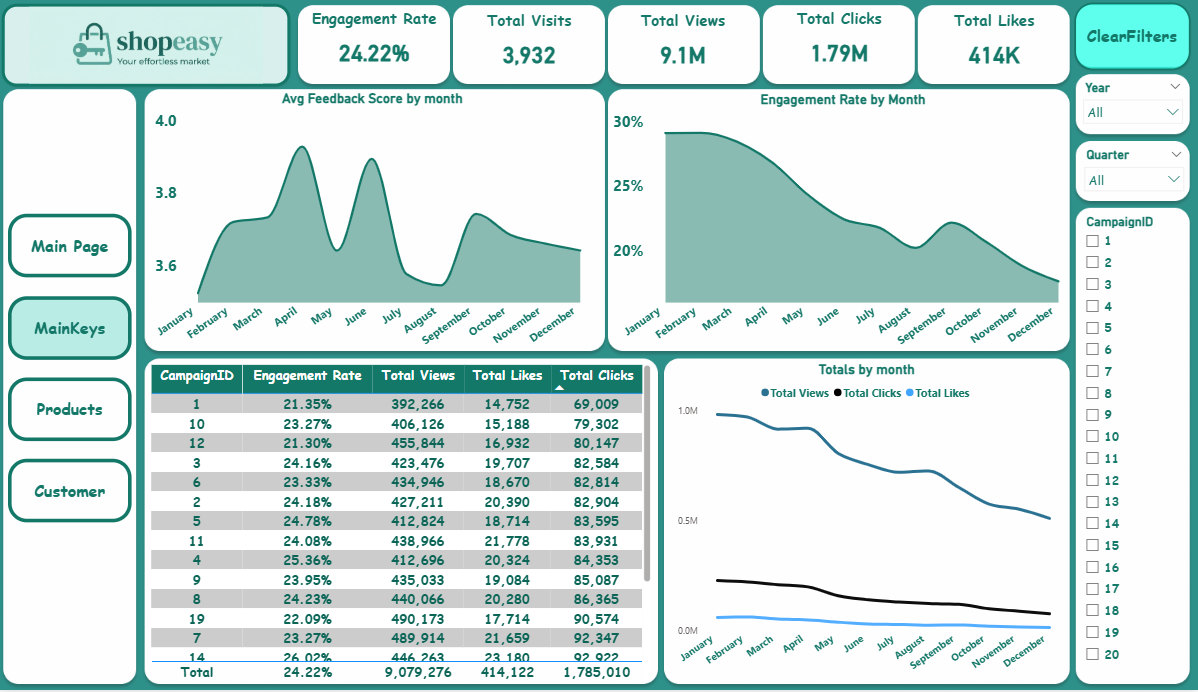

The page's visual inventory and layout, read from the dashboard file:
{"tool":"powerbi","page":{"name":"MainKeys","canvas":[1600,920],"ordinal":1},"visuals":[{"type":"actionButton","box":[1435,2.5,155,90],"z":0},{"type":"slicer","fields":{"Values":["engagement_data.CampaignID"]},"box":[1438.3,280,153.3,633.3],"z":1000},{"type":"slicer","fields":{"Values":["CalendarTable.Year"]},"box":[1436.7,101.7,153.3,76.7],"z":2000},{"type":"slicer","fields":{"Values":["CalendarTable.Quarter"]},"box":[1438.3,191.7,153.3,76.7],"z":3000},{"type":"card","title":"Engagement Rate","fields":{"Values":["MainMeasures.Engagement Rate"]},"box":[401.7,10,200,95],"z":4000},{"type":"card","title":"Total Views","fields":{"Values":["MainMeasures.Total Views"]},"box":[813.3,11.7,200,95],"z":5000},{"type":"card","title":"Total Likes","fields":{"Values":["MainMeasures.Total Likes"]},"box":[1228.3,11.7,200,95],"z":6000},{"type":"card","title":"Total Clicks","fields":{"Values":["MainMeasures.Total Clicks"]},"box":[1021.7,10,200,95],"z":7000},{"type":"card","title":"Total Visits","fields":{"Values":["MainMeasures.Total Visits"]},"box":[608.3,11.7,200,95],"z":8000},{"type":"actionButton","box":[13.3,285.7,165,85],"z":9000},{"type":"actionButton","box":[13.3,394.6,165,85],"z":10000},{"type":"actionButton","box":[13.3,612.3,165,85],"z":11000},{"type":"actionButton","box":[13.3,503.4,165,85],"z":12000},{"type":"lineChart","title":"Engagement Rate by Month","fields":{"Category":["CalendarTable.Month Name"],"Y":["MainMeasures.Engagement Rate"]},"box":[815,121.7,623.3,360],"z":13000},{"type":"image","box":[5,5,385,110],"z":14000},{"type":"tableEx","fields":{"Values":["engagement_data.CampaignID","MainMeasures.Engagement Rate","MainMeasures.Total Views","MainMeasures.Total Likes","MainMeasures.Total Clicks"]},"box":[198.3,481.7,676.7,431.7],"z":15000},{"type":"lineChart","title":"Totals by month","fields":{"Y":["MainMeasures.Total Campaign Views","MainMeasures.Total Clicks","MainMeasures.Total Likes"],"Category":["CalendarTable.Month Name"]},"box":[893.3,481.7,530,431.7],"z":16000},{"type":"lineChart","title":"Avg Feedback Score by month","fields":{"Category":["CalendarTable.Month Name"],"Y":["MainMeasures.Avg Feedback Score"]},"box":[198.3,120,601.7,361.7],"z":17000}]}

Visuals, with their boxes in screenshot pixels (x1, y1, x2, y2), scaled from the page's 1600x920 canvas onto the 1198x692 screenshot:
actionButton: BBox(1074, 2, 1191, 70)
slicer - engagement_data.CampaignID: BBox(1077, 211, 1192, 687)
slicer - CalendarTable.Year: BBox(1076, 76, 1191, 134)
slicer - CalendarTable.Quarter: BBox(1077, 144, 1192, 202)
"Engagement Rate" card: BBox(301, 8, 451, 79)
"Total Views" card: BBox(609, 9, 759, 80)
"Total Likes" card: BBox(920, 9, 1069, 80)
"Total Clicks" card: BBox(765, 8, 915, 79)
"Total Visits" card: BBox(455, 9, 605, 80)
actionButton: BBox(10, 215, 134, 279)
actionButton: BBox(10, 297, 134, 361)
actionButton: BBox(10, 461, 134, 524)
actionButton: BBox(10, 379, 134, 443)
"Engagement Rate by Month" lineChart: BBox(610, 92, 1077, 362)
image: BBox(4, 4, 292, 86)
tableEx - engagement_data.CampaignID x MainMeasures.Engagement Rate: BBox(148, 362, 655, 687)
"Totals by month" lineChart: BBox(669, 362, 1066, 687)
"Avg Feedback Score by month" lineChart: BBox(148, 90, 599, 362)
